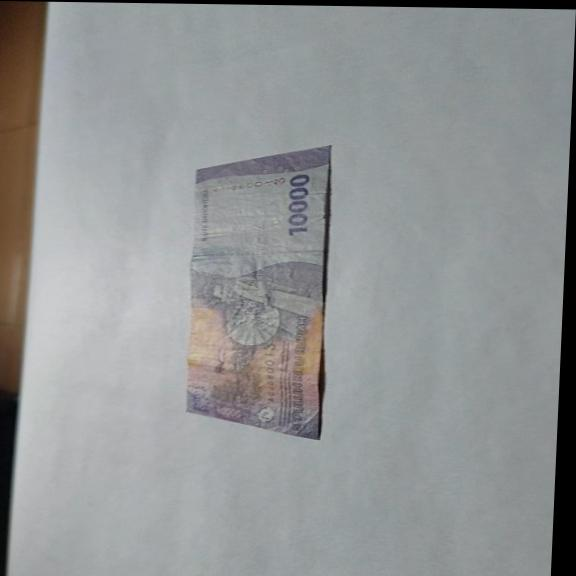Kertas: (179, 142, 336, 440)
